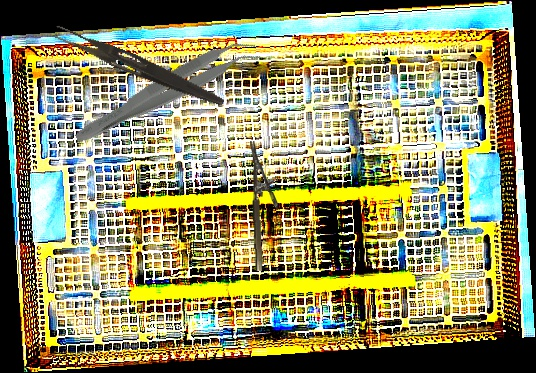Dressing Forceps: (49, 24, 229, 109)
Needle Holder: (249, 140, 281, 272)
Tissue Forceps: (70, 29, 263, 157)
